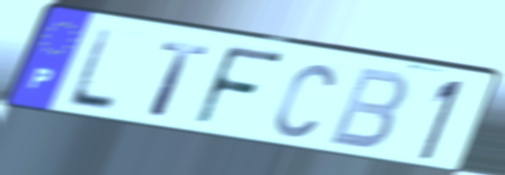1: (418, 78, 466, 163)
B: (324, 65, 412, 153)
C: (272, 60, 338, 140)
F: (190, 43, 288, 131)
L: (64, 26, 120, 115)
T: (146, 39, 213, 120)
